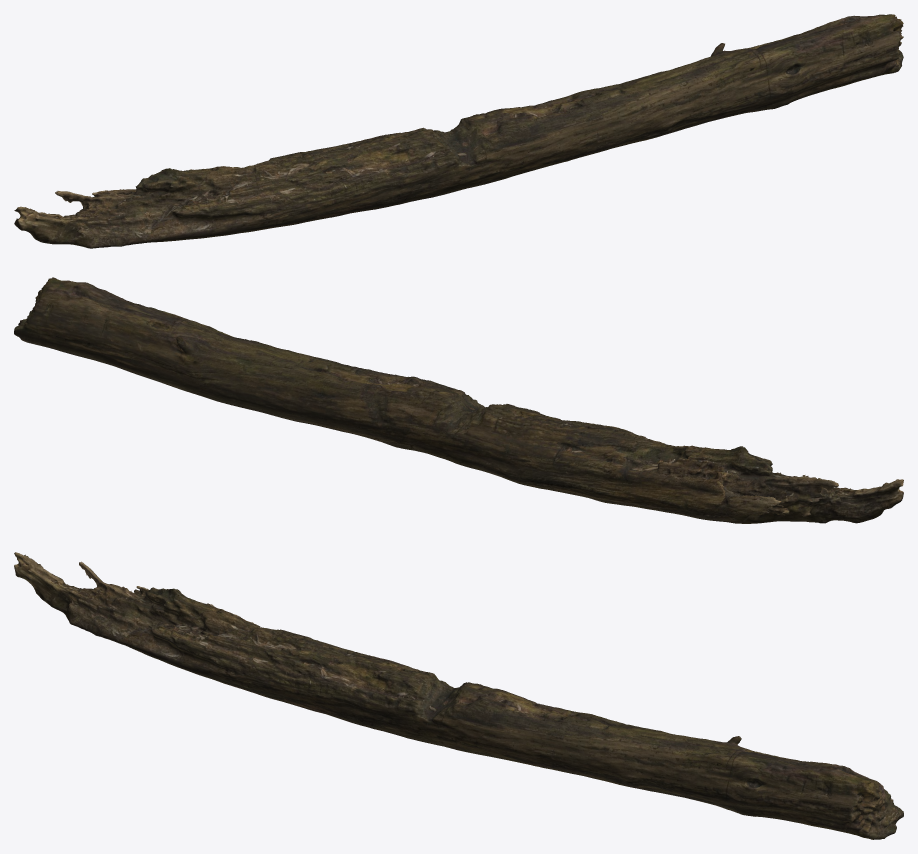
The model's file is dead_tree_trunk.glb.
3 renders of one model, top to bottom at view 1: azimuth 30°, elevation 25°; view 2: azimuth 150°, elevation 25°; view 3: azimuth 330°, elevation 25°, orthographic.
Visible parts, largest first — view 1: dead_tree_trunk; view 2: dead_tree_trunk; view 3: dead_tree_trunk.
Boxes of the visible parts, left/top/right/bottom form: dead_tree_trunk: left=14, top=14, right=903, bottom=248; dead_tree_trunk: left=14, top=277, right=903, bottom=523; dead_tree_trunk: left=14, top=552, right=903, bottom=839.
Bounding box in the file's own units: 3.05 × 0.2904 × 0.2775.
Materials: 1 (1 with a texture image).
